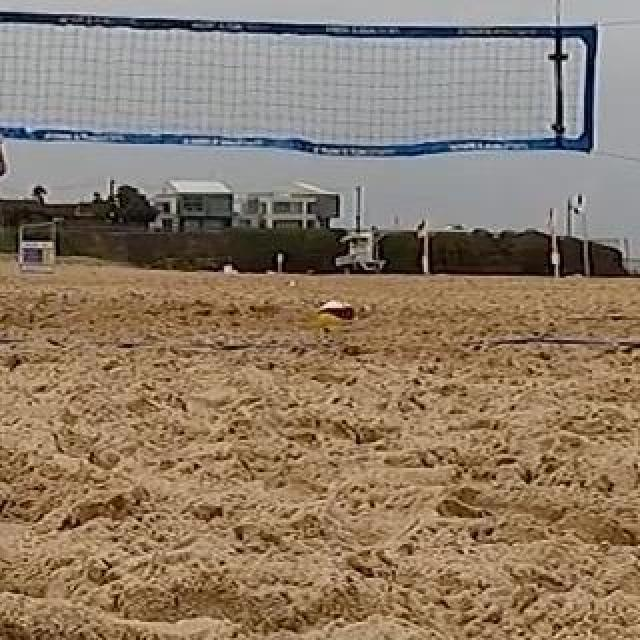volleyball: (318, 299, 356, 335)
